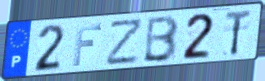2: (32, 23, 66, 74), (182, 11, 216, 61)
B: (141, 14, 181, 64)
F: (71, 22, 104, 68)
T: (224, 7, 253, 57)
Z: (105, 16, 145, 67)
